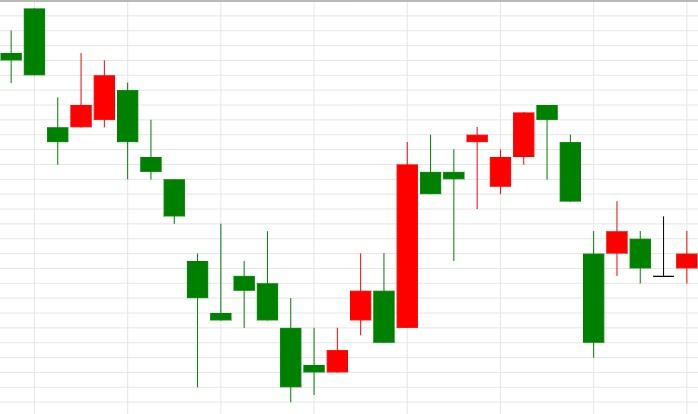hanging_man_fall: (489, 104, 559, 194)
three_black_crows_fall: (489, 104, 605, 357), (46, 53, 186, 225)
